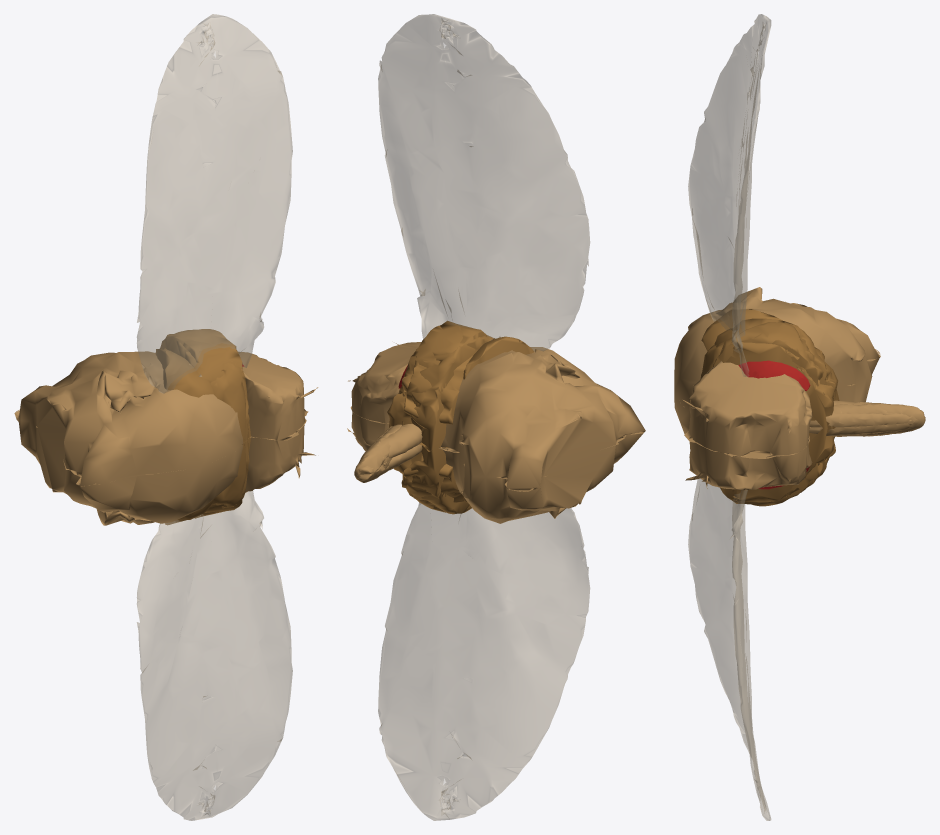
File: body.glb
The picture shows the model from 3 angles, left to right: view 1: azimuth 30°, elevation 25°; view 2: azimuth 150°, elevation 25°; view 3: azimuth 270°, elevation 25°; orthographic projection.
Parts seen in each view (by area): view 1: l_wing, r_wing, c_thorax, c_head, c_abdomen3, c_abdomen4, c_abdomen12; view 2: l_wing, r_wing, c_thorax, c_abdomen3, c_head, c_abdomen5, c_abdomen4, c_abdomen12, rh_trochanterfemur, lf_trochanterfemur; view 3: l_wing, c_head, r_wing, c_thorax, c_abdomen3, c_abdomen4, rh_trochanterfemur, lh_trochanterfemur, c_abdomen12, l_eye, c_abdomen5.
Boxes of the visible parts, x1=… form: l_wing: x1=137, y1=14, x2=292, y2=393; r_wing: x1=137, y1=491, x2=292, y2=820; c_thorax: x1=14, y1=351, x2=243, y2=525; c_head: x1=238, y1=351, x2=318, y2=492; c_abdomen3: x1=160, y1=334, x2=245, y2=518; c_abdomen4: x1=172, y1=329, x2=249, y2=512; c_abdomen12: x1=155, y1=349, x2=213, y2=525; l_wing: x1=378, y1=14, x2=590, y2=351; r_wing: x1=378, y1=502, x2=590, y2=820; c_thorax: x1=439, y1=338, x2=645, y2=523; c_abdomen3: x1=387, y1=324, x2=486, y2=514; c_head: x1=347, y1=342, x2=421, y2=451; c_abdomen5: x1=402, y1=355, x2=472, y2=502; c_abdomen4: x1=401, y1=320, x2=494, y2=512; c_abdomen12: x1=463, y1=336, x2=533, y2=503; rh_trochanterfemur: x1=354, y1=424, x2=401, y2=480; lf_trochanterfemur: x1=367, y1=424, x2=422, y2=458; l_wing: x1=688, y1=14, x2=771, y2=376; c_head: x1=683, y1=361, x2=812, y2=490; r_wing: x1=688, y1=478, x2=771, y2=820; c_thorax: x1=674, y1=287, x2=880, y2=433; c_abdomen3: x1=700, y1=318, x2=839, y2=502; c_abdomen4: x1=713, y1=322, x2=827, y2=506; rh_trochanterfemur: x1=809, y1=403, x2=925, y2=436; lh_trochanterfemur: x1=809, y1=410, x2=925, y2=436; c_abdomen12: x1=701, y1=309, x2=782, y2=351; l_eye: x1=738, y1=360, x2=810, y2=390; c_abdomen5: x1=800, y1=349, x2=835, y2=487.
Size of the model in its own units: 1.52 by 4.6 by 1.31.
